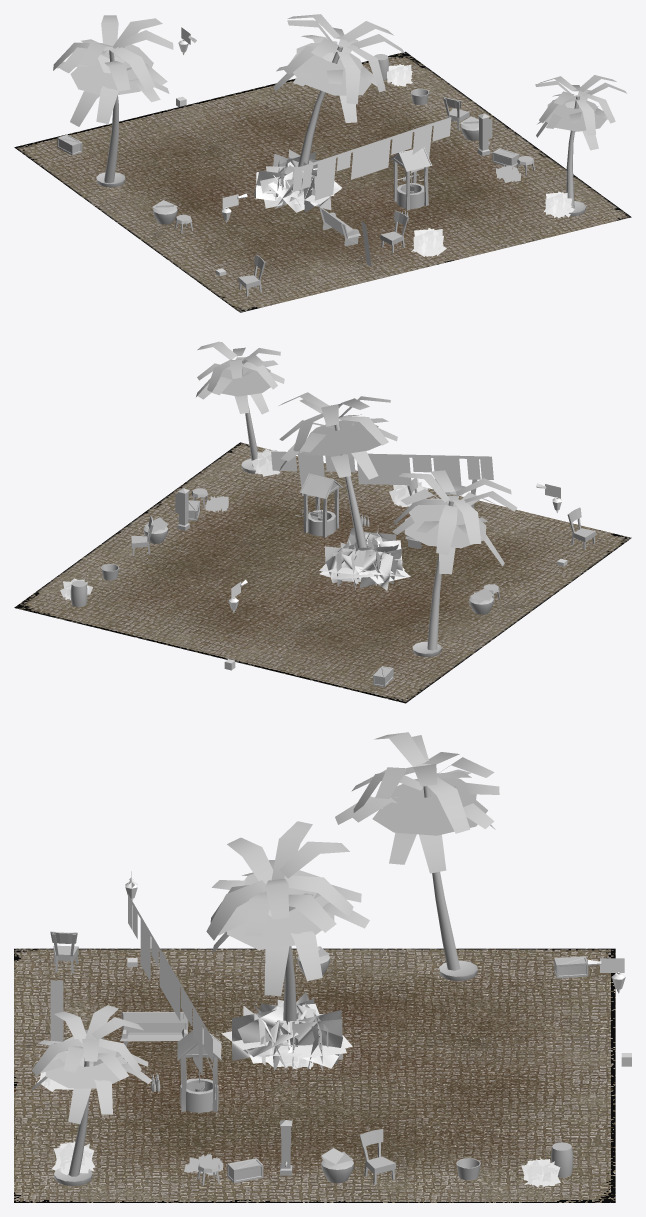
The model's file is propsonly_1.gltf.
3 renders of one model, top to bottom at view 1: azimuth 30°, elevation 25°; view 2: azimuth 150°, elevation 25°; view 3: azimuth 270°, elevation 25°, orthographic. The views are drawn at different scales.
Visible parts, largest first — view 1: ground.010, prop_tree3.002, prop_tree2.002, file_clothline_colony_no_terrain_hight.001, prop_tree1.003, prop_bush_jungle_04_small.002, prop_well.002, prop_building_bush_05.008, prop_bench1.002, prop_building_bush_05.011, prop_waterpump.002, prop_chair1.008 (+4 smaller); view 2: ground.010, prop_tree3.002, prop_tree2.002, file_clothline_colony_no_terrain_hight.001, prop_tree1.003, prop_bush_jungle_04_small.002, prop_well.002, prop_waterpump.002, prop_chair1.009, prop_flowerpot.010; view 3: ground.010, prop_tree2.002, prop_tree3.002, prop_tree1.003, prop_bush_jungle_04_small.002, file_clothline_colony_no_terrain_hight.001, prop_well.002, prop_bench1.002, prop_chair1.007, prop_building_bush_05.010, prop_flowerpot.011, prop_building_bush_05.011 (+5 smaller).
Part boxes in pixels (left/top/right/bottom): ground.010: left=14, top=51, right=631, bottom=312; prop_tree3.002: left=53, top=15, right=173, bottom=183; prop_tree2.002: left=273, top=14, right=405, bottom=166; file_clothline_colony_no_terrain_hight.001: left=292, top=117, right=451, bottom=200; prop_tree1.003: left=535, top=75, right=626, bottom=208; prop_bush_jungle_04_small.002: left=254, top=149, right=341, bottom=212; prop_well.002: left=390, top=147, right=432, bottom=210; prop_building_bush_05.008: left=411, top=228, right=446, bottom=256; prop_bench1.002: left=319, top=206, right=360, bottom=246; prop_building_bush_05.011: left=543, top=191, right=574, bottom=218; prop_waterpump.002: left=477, top=113, right=492, bottom=155; prop_chair1.008: left=380, top=210, right=408, bottom=253; ground.010: left=14, top=442, right=631, bottom=703; prop_tree3.002: left=392, top=470, right=517, bottom=650; prop_tree2.002: left=279, top=392, right=397, bottom=547; file_clothline_colony_no_terrain_hight.001: left=271, top=451, right=493, bottom=496; prop_tree1.003: left=196, top=341, right=284, bottom=466; prop_bush_jungle_04_small.002: left=319, top=525, right=410, bottom=590; prop_well.002: left=295, top=473, right=342, bottom=537; prop_waterpump.002: left=175, top=488, right=189, bottom=530; prop_chair1.009: left=567, top=507, right=595, bottom=549; prop_flowerpot.010: left=469, top=588, right=493, bottom=614; ground.010: left=14, top=948, right=615, bottom=1202; prop_tree2.002: left=206, top=821, right=369, bottom=1024; prop_tree3.002: left=335, top=732, right=499, bottom=970; prop_tree1.003: left=31, top=1005, right=152, bottom=1176; prop_bush_jungle_04_small.002: left=221, top=992, right=352, bottom=1071; file_clothline_colony_no_terrain_hight.001: left=128, top=894, right=212, bottom=1075; prop_well.002: left=177, top=1027, right=221, bottom=1112; prop_bench1.002: left=120, top=1012, right=188, bottom=1046; prop_chair1.007: left=359, top=1128, right=395, bottom=1184; prop_building_bush_05.010: left=521, top=1157, right=560, bottom=1187; prop_flowerpot.011: left=321, top=1148, right=353, bottom=1183; prop_building_bush_05.011: left=52, top=1140, right=95, bottom=1174.
Bounding box in the file's own units: 3.7 × 1.51 × 3.39.
